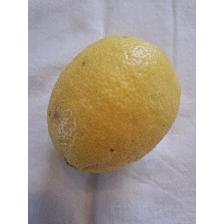Zitrone: (46, 33, 184, 175)
